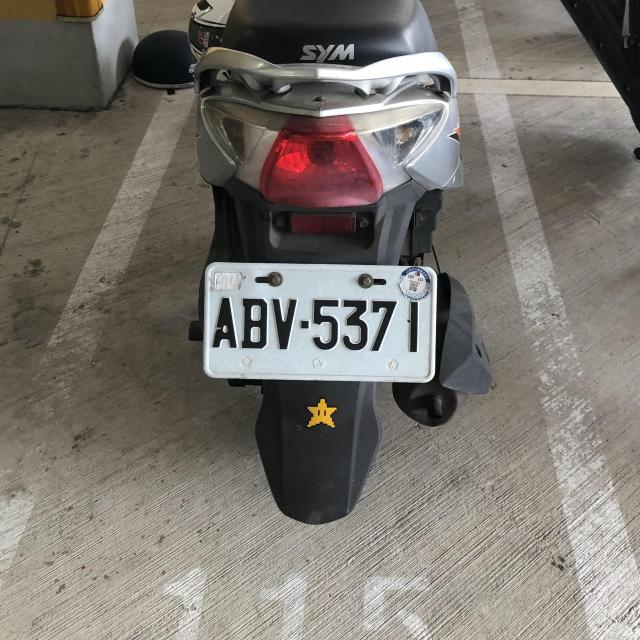W: (200, 259, 434, 386)
